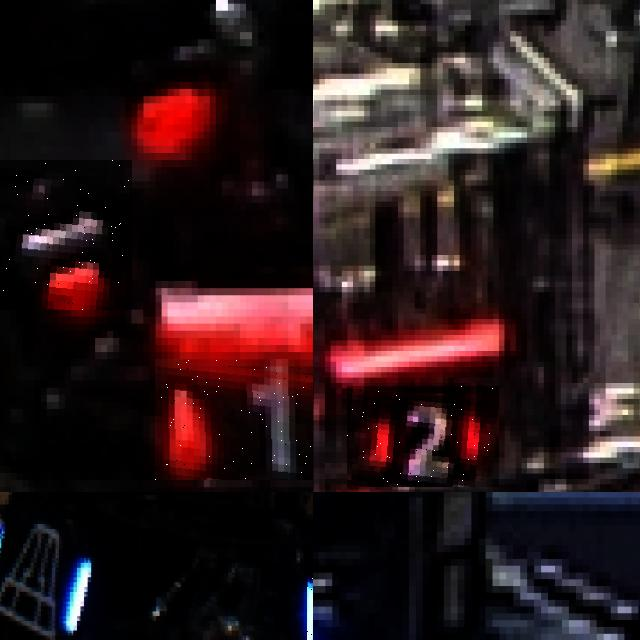R1: (0, 160, 131, 309), (155, 359, 313, 480)
R2: (347, 386, 499, 487)
